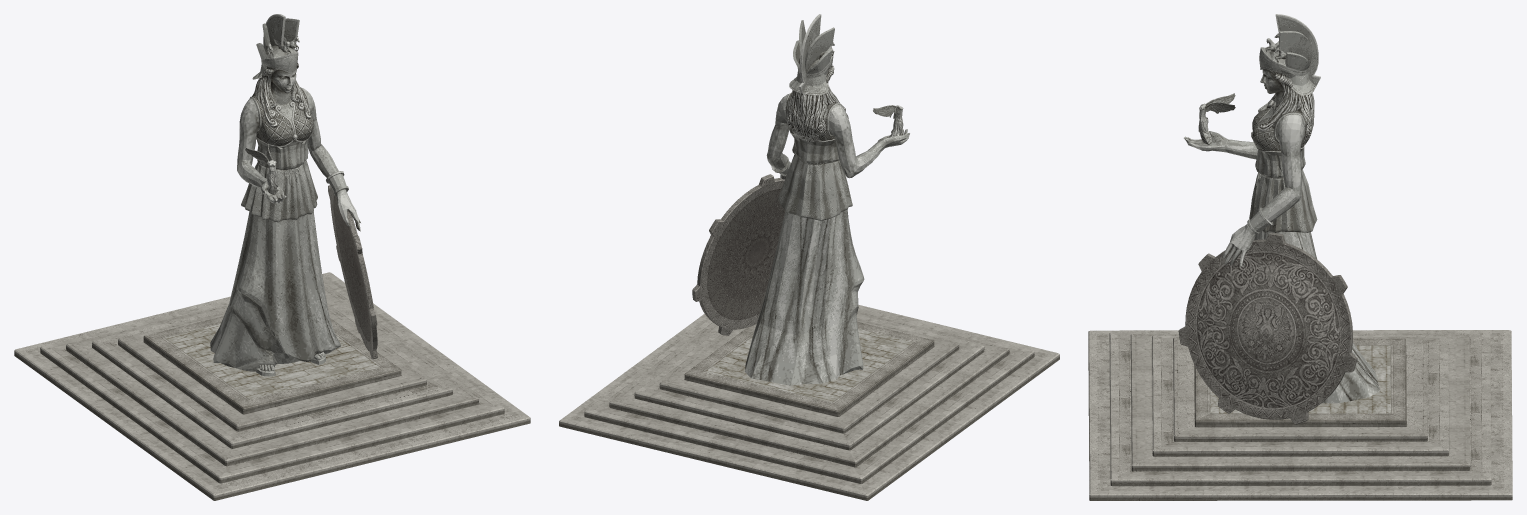
File: Armadura.fbx
3 views of the same model, side by side, from view 1: azimuth 30°, elevation 25°; view 2: azimuth 150°, elevation 25°; view 3: azimuth 270°, elevation 25° (orthographic). The views are drawn at different scales.
Visible parts, largest first — view 1: default; view 2: default; view 3: default.
Part boxes in pixels (x1,y1,x2,y2): default: (14, 14, 530, 500); default: (559, 14, 1059, 500); default: (1088, 14, 1512, 500).
Size of the model in its own units: 21.5 by 24.57 by 23.38.
Materials: 4 (4 with a texture image).
